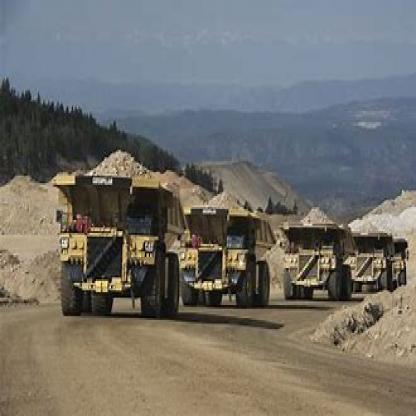dump_truck: (53, 146, 185, 327), (186, 191, 274, 316), (278, 202, 350, 302), (350, 224, 400, 296)
